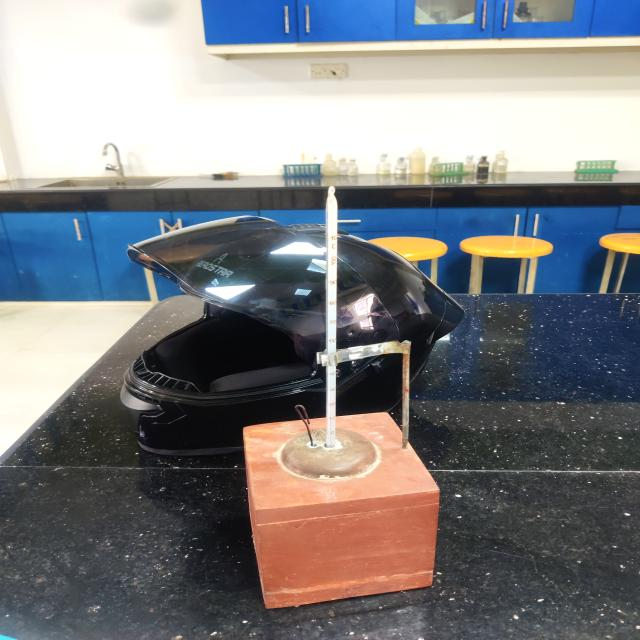Calorimeter: (226, 176, 455, 621)
